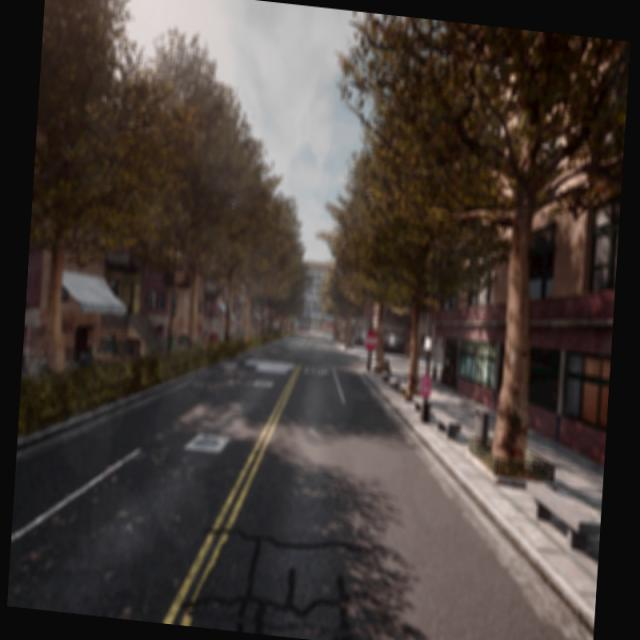stop sign: (362, 323, 380, 371), (362, 326, 380, 352)
